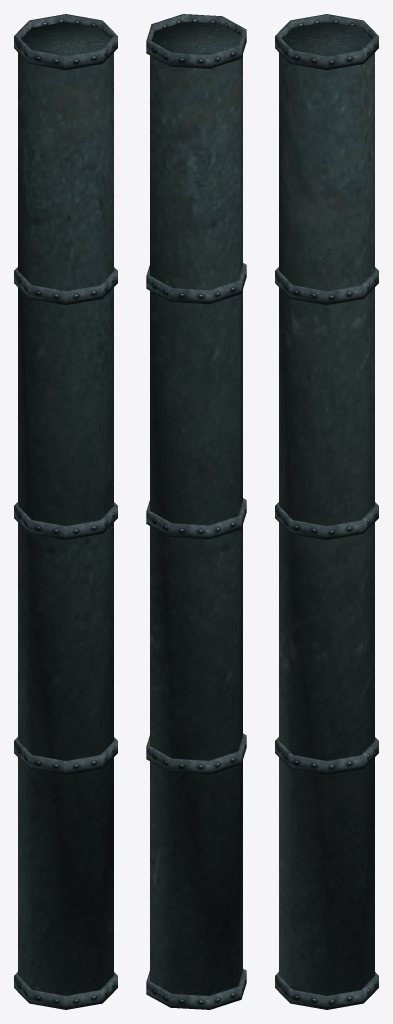
The model's file is pipe big I.glb.
The picture shows the model from 3 angles, left to right: view 1: azimuth 90°, elevation 25°; view 2: azimuth 150°, elevation 25°; view 3: azimuth 270°, elevation 25°; orthographic projection.
Parts seen in each view (by area): view 1: pipe.018; view 2: pipe.018; view 3: pipe.018.
Boxes of the visible parts, x1,y1,x2,y2 form: pipe.018: (14, 14, 117, 1009); pipe.018: (146, 14, 246, 1009); pipe.018: (275, 14, 378, 1009).
Size of the model in its own units: 0.8 by 8.11 by 0.8.
1 material, 1 textured.
